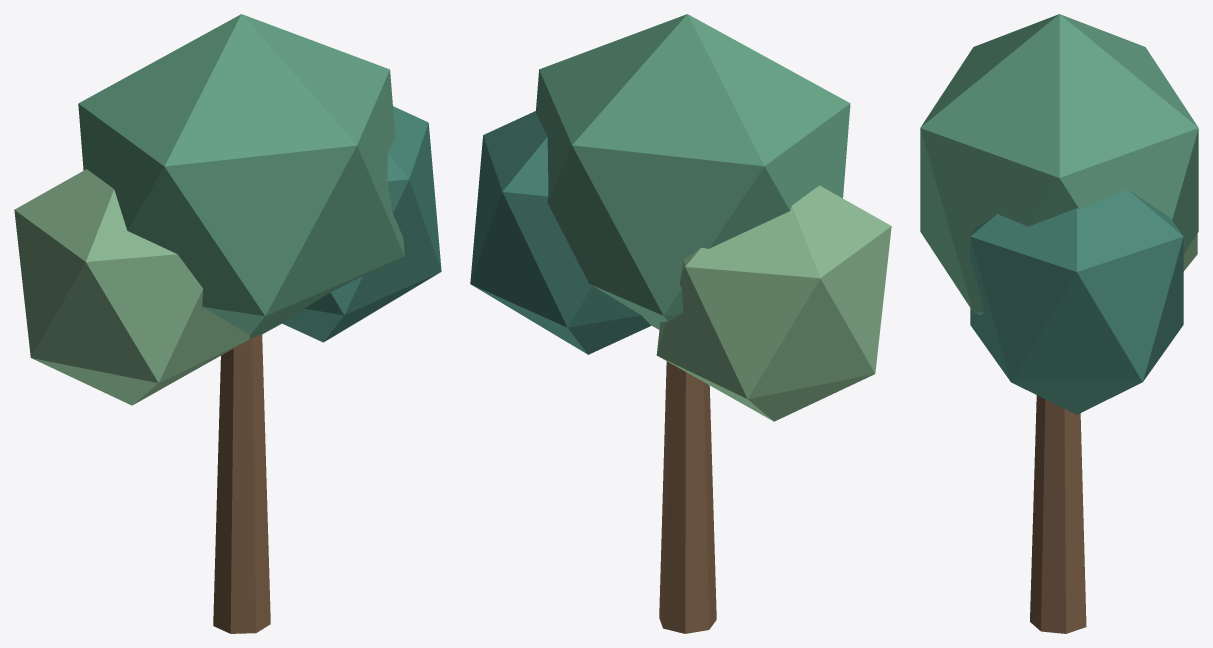
File: riverside_tree.glb
The picture shows the model from 3 angles, left to right: view 1: azimuth 30°, elevation 25°; view 2: azimuth 150°, elevation 25°; view 3: azimuth 270°, elevation 25°; orthographic projection.
Visible parts, largest first — view 1: riverside_tree.Root_Leaf, riverside_tree.Root_LeafLight, riverside_tree.Root_Wood, riverside_tree.Root_LeafDark; view 2: riverside_tree.Root_Leaf, riverside_tree.Root_LeafLight, riverside_tree.Root_LeafDark, riverside_tree.Root_Wood; view 3: riverside_tree.Root_Leaf, riverside_tree.Root_LeafDark, riverside_tree.Root_Wood.
Boxes of the visible parts, box(x1,y1,x2,y2) form: riverside_tree.Root_Leaf: box(78, 14, 404, 338); riverside_tree.Root_LeafLight: box(14, 169, 249, 405); riverside_tree.Root_Wood: box(213, 334, 270, 633); riverside_tree.Root_LeafDark: box(282, 106, 441, 342); riverside_tree.Root_Leaf: box(536, 14, 850, 329); riverside_tree.Root_LeafLight: box(656, 185, 891, 421); riverside_tree.Root_LeafDark: box(470, 111, 651, 354); riverside_tree.Root_Wood: box(659, 361, 716, 633); riverside_tree.Root_Leaf: box(920, 14, 1198, 315); riverside_tree.Root_LeafDark: box(970, 189, 1183, 414); riverside_tree.Root_Wood: box(1030, 395, 1086, 633).
Bounding box in the file's own units: 2.62 × 3.85 × 1.6.
